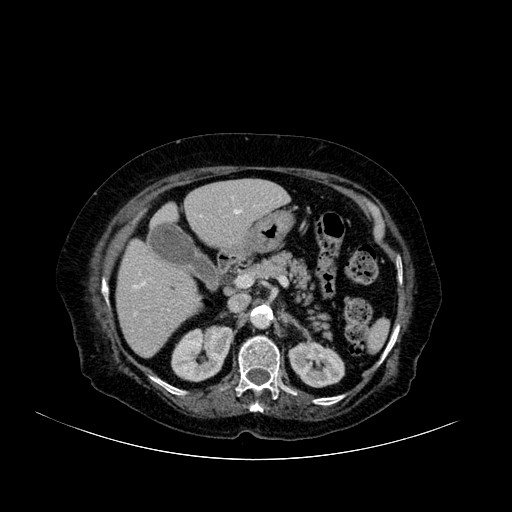vesicula: (147, 220, 196, 268)
